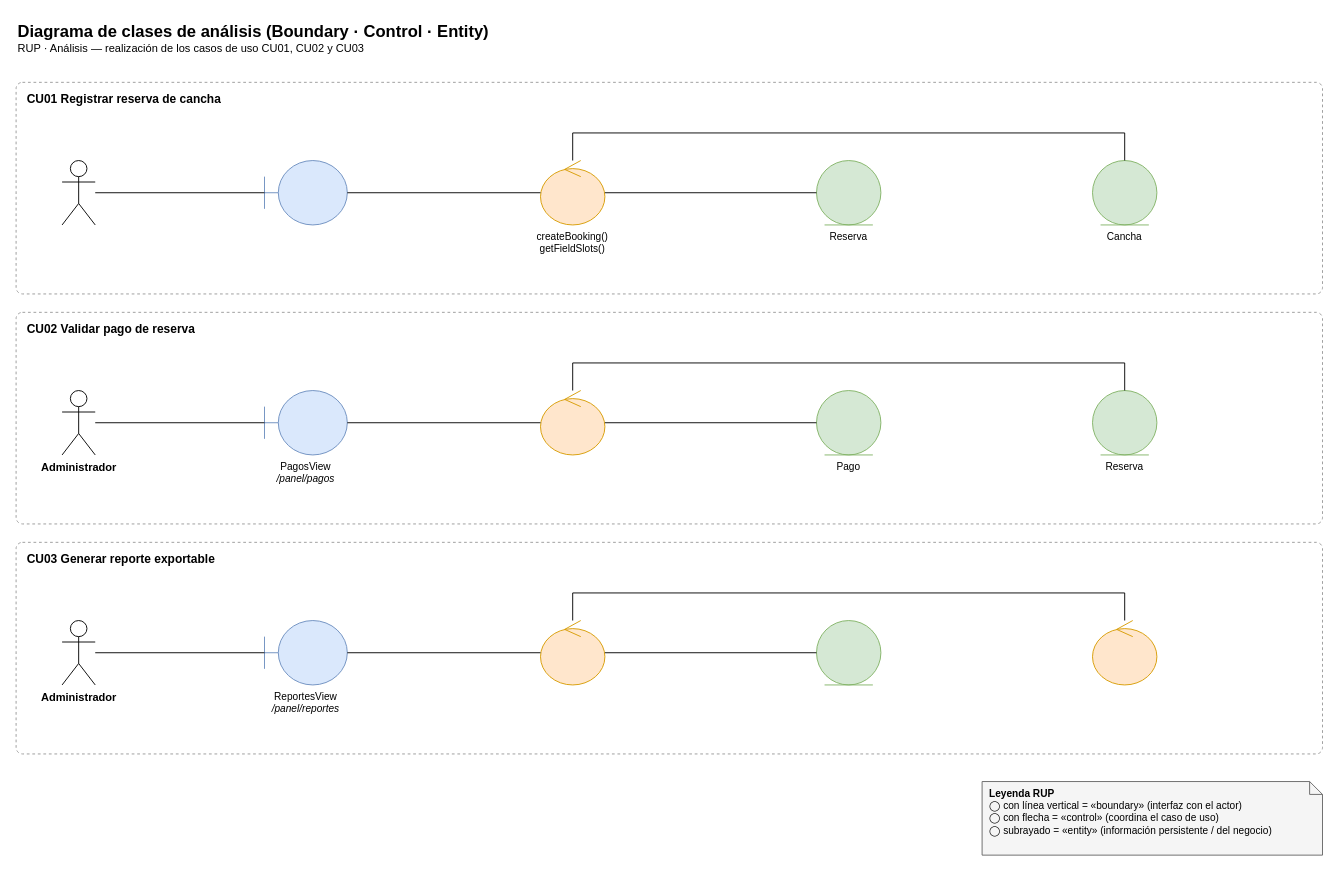
Image size: 1339x871. Some labels were removed from this diagram. Each missing label, with the centre of its shape:
BookingView /c/[slug]: [305,192]
Cliente: [78,192]
ExporterFactory ReportExporter: [1124,652]
reportes/exportar/route.ts GET(): [572,652]
reports ReportData: [848,652]
validatePayment() rejectPayment(): [572,422]
